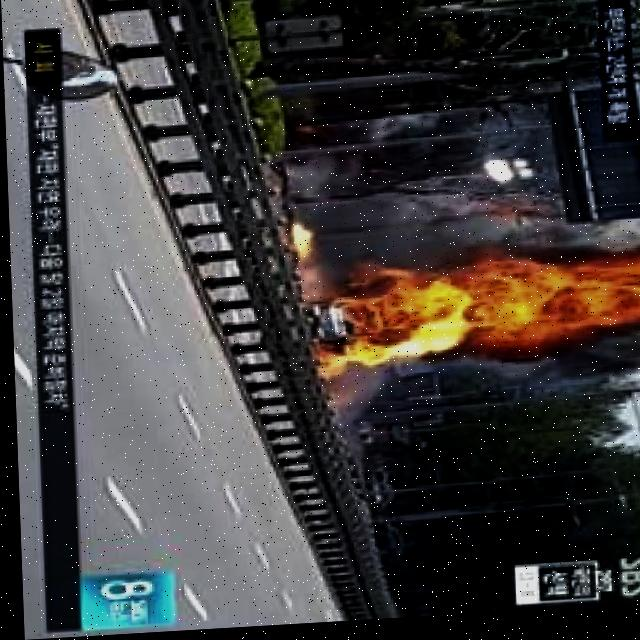Fire: (298, 240, 640, 389), (291, 229, 312, 268)
